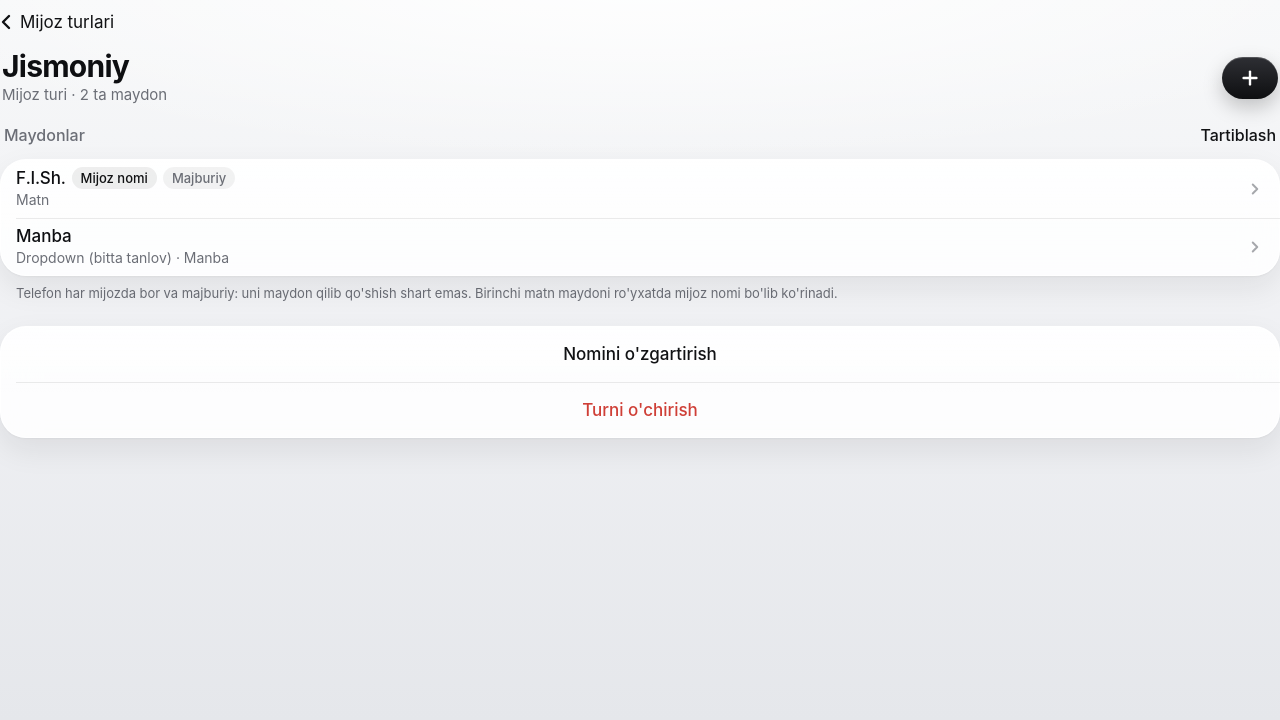
Test: a choice field's sheet has no mark for text and numbers
The image size is (1280, 720).
Click the button "Manba Dropdown (bitta tanlov) · Manba" at (44, 236), box [0,218,1279,276]
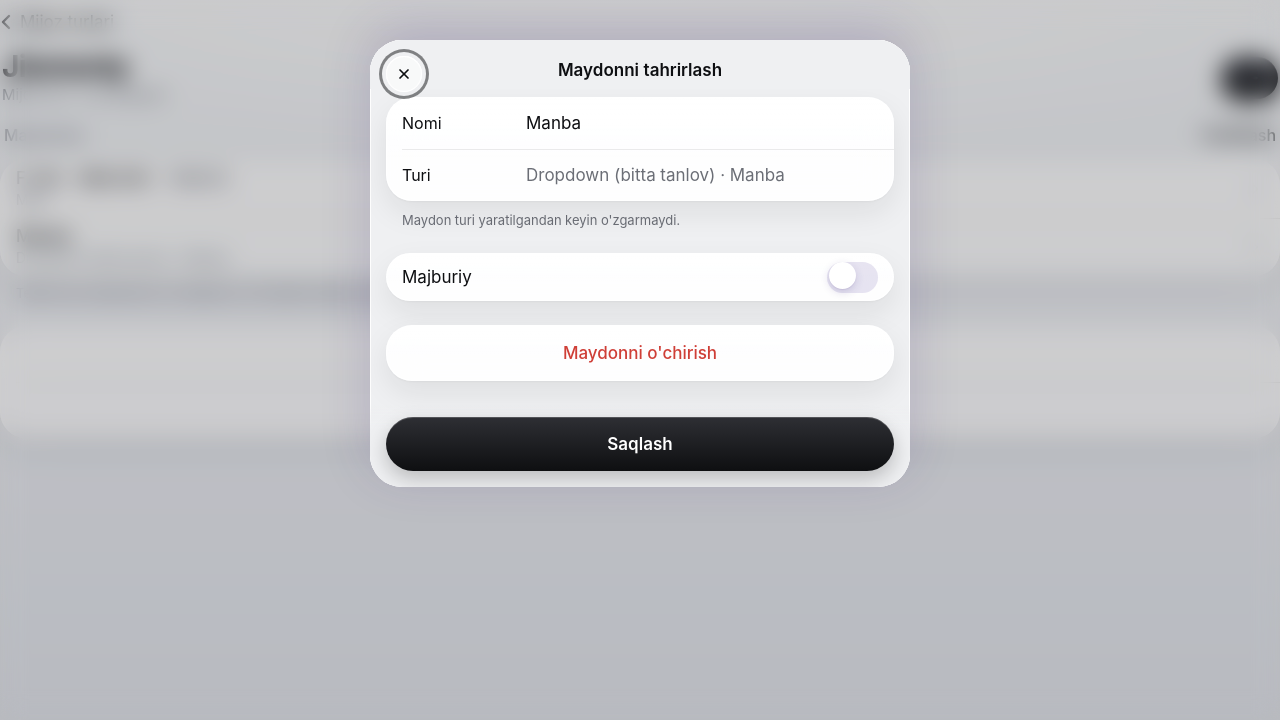
Check: the text "Dropdown (bitta tanlov) · Manba" is shown, box [526,165,785,185]
Check: the switch named "Majburiy" is not checked, box [827,262,878,293]
